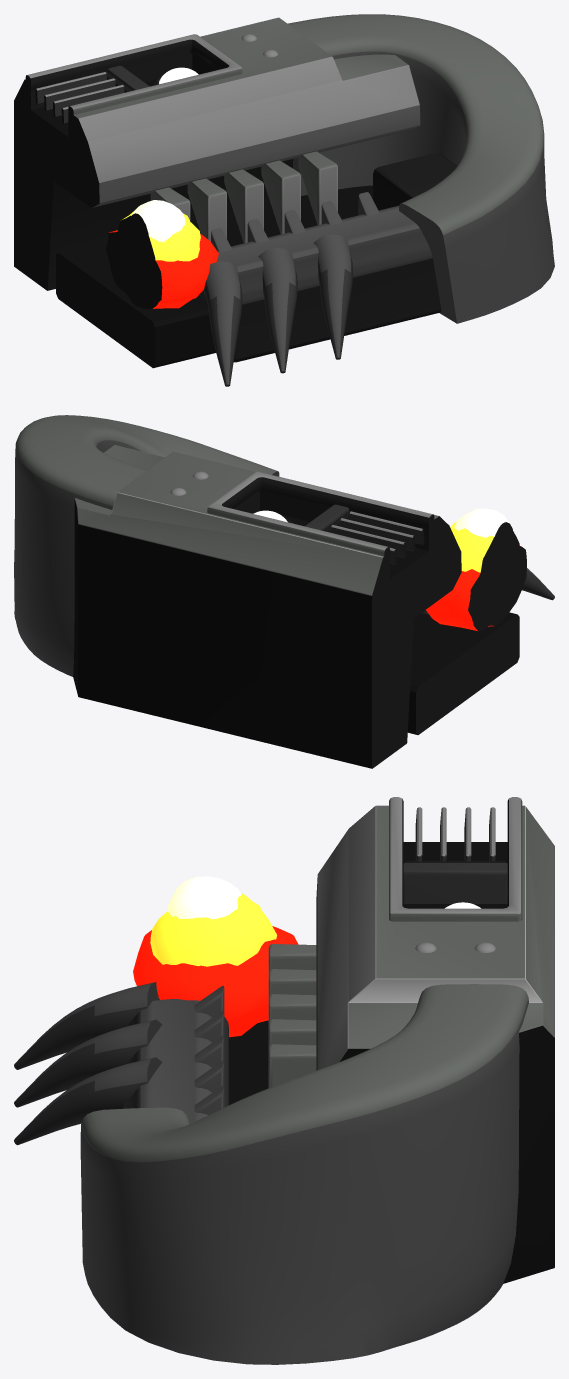
File: jaw_gun_b_right_277.glb
3 views of the same model, one above another, from view 1: azimuth 30°, elevation 25°; view 2: azimuth 150°, elevation 25°; view 3: azimuth 270°, elevation 25° (orthographic). The views are drawn at different scales.
Visible parts, largest first — view 1: upper_jaw.001, hinge.001, lower_jaw.001, mouth_floor.001, fireball0.001, bezel.001, fang2.001, fang1.001, fang0.001, fireball1.001, cheek.001, fireball2.001 (+9 smaller); view 2: upper_jaw.001, hinge.001, mouth_floor.001, bezel.001, fireball0.001, fireball1.001, fireball2.001, slat0.001, slat1.001, slat2.001, divider.001, fang2.001; view 3: hinge.001, upper_jaw.001, lower_jaw.001, fireball0.001, fireball1.001, bezel.001, fang0.001, fang1.001, fang2.001, divider.001, mouth_floor.001, fireball2.001 (+5 smaller).
Boxes of the visible parts, x1,y1,x2,y2 form: upper_jaw.001: (14,17,420,290); hinge.001: (288,14,554,323); lower_jaw.001: (198,205,441,362); mouth_floor.001: (56,185,372,368); fireball0.001: (106,229,218,309); bezel.001: (25,34,242,123); fang2.001: (203,261,242,386); fang1.001: (258,247,297,373); fang0.001: (313,234,352,359); fireball1.001: (117,211,200,288); cheek.001: (373,153,456,210); fireball2.001: (128,200,185,252); upper_jaw.001: (73,445,461,768); hinge.001: (14,415,279,676); mouth_floor.001: (407,612,519,734); bezel.001: (207,471,434,564); fireball0.001: (426,546,526,631); fireball1.001: (450,522,519,607); fireball2.001: (454,508,512,556); slat0.001: (349,511,424,544); slat1.001: (340,518,415,551); slat2.001: (331,525,405,558); divider.001: (305,504,349,530); fang2.001: (522,568,554,600); hinge.001: (80,984,528,1364); upper_jaw.001: (316,805,554,1283); lower_jaw.001: (121,999,229,1123); fireball0.001: (133,926,298,1037); fireball1.001: (150,893,276,966); bezel.001: (389,797,522,921); fang0.001: (14,1057,162,1145); fang1.001: (14,1019,162,1107); fang2.001: (14,982,159,1069); divider.001: (403,863,507,903); mouth_floor.001: (229,1020,268,1104); fireball2.001: (167,876,241,919).
Bounding box in the file's own units: 22.94 × 10.42 × 18.24.
